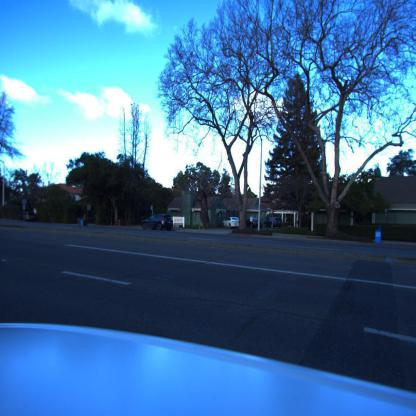car: (141, 214, 174, 231), (223, 217, 238, 229)
